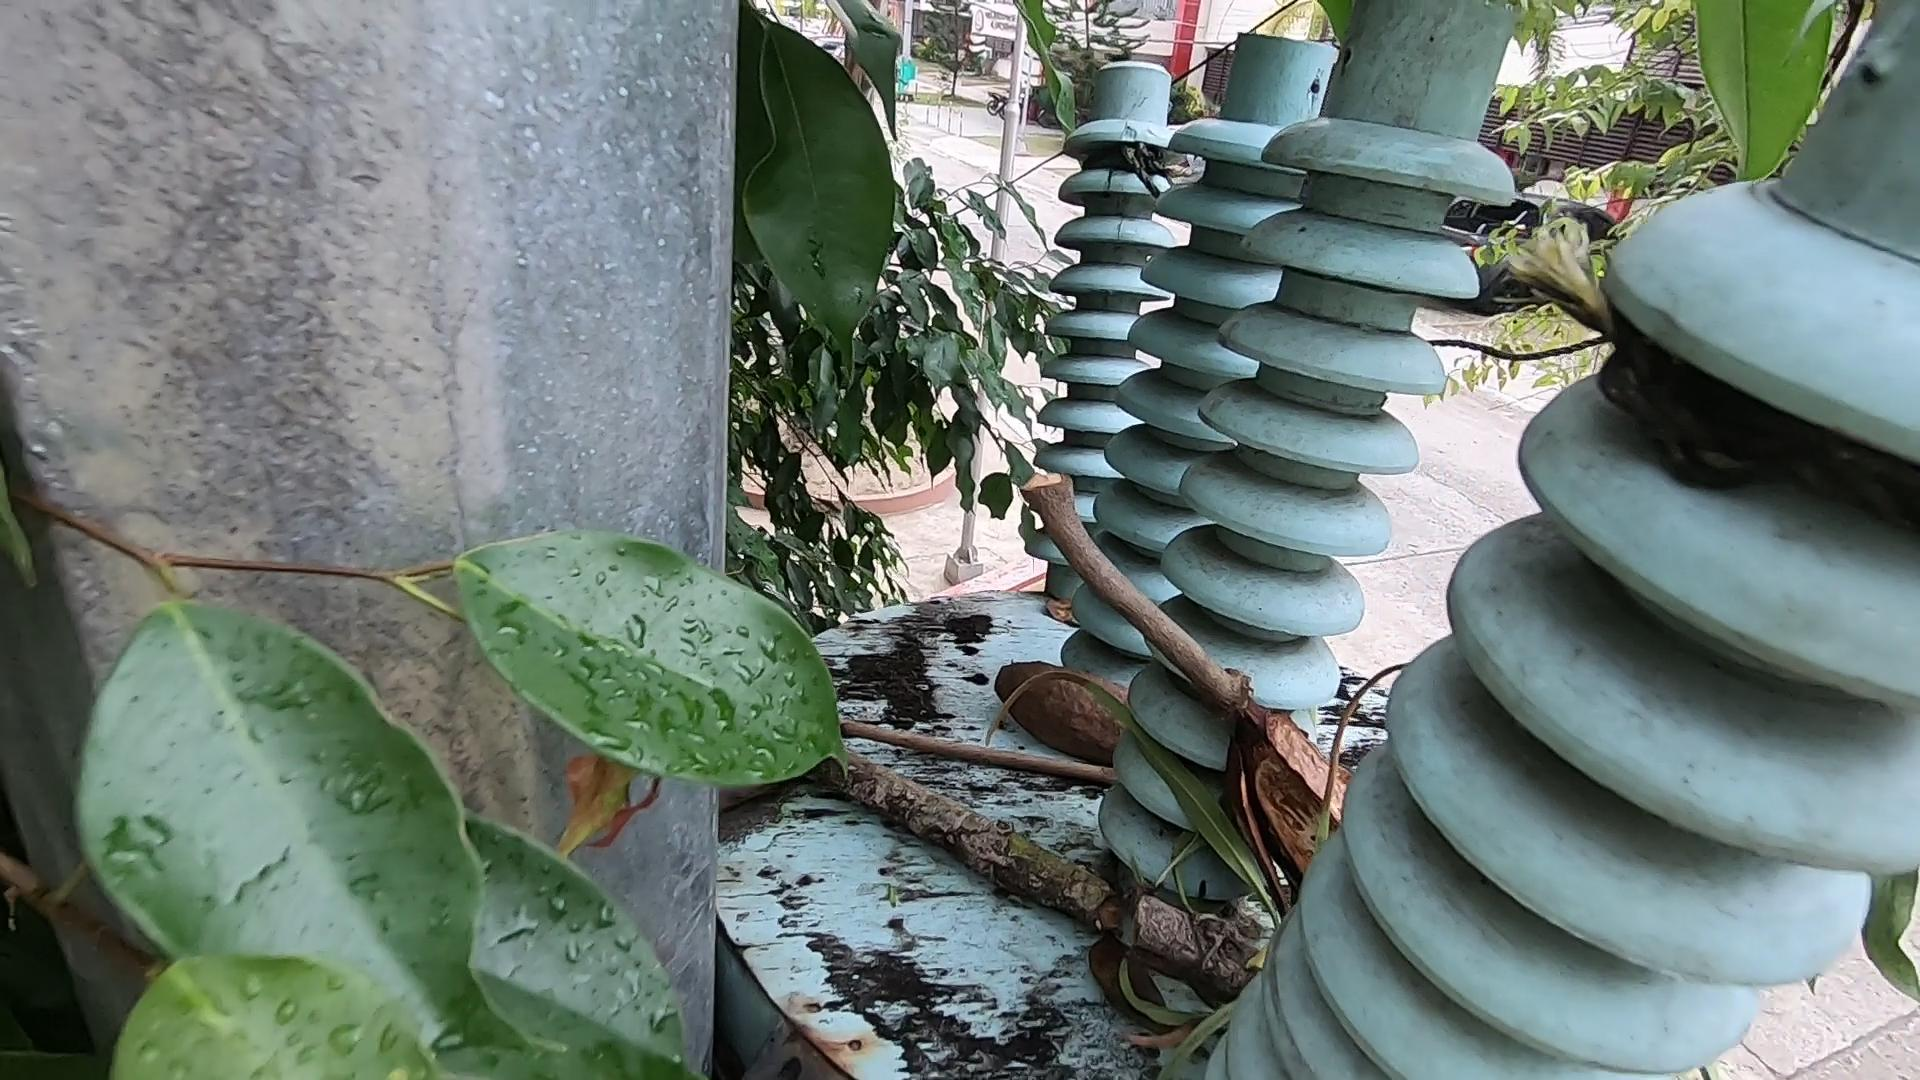branch with leaves: (820, 753, 1237, 984)
leaf: (1098, 932, 1178, 1055), (1040, 582, 1072, 669)
mahogany fruit: (1174, 674, 1441, 942), (982, 644, 1178, 814)
tree branch: (1035, 473, 1253, 719), (835, 727, 1108, 781)
